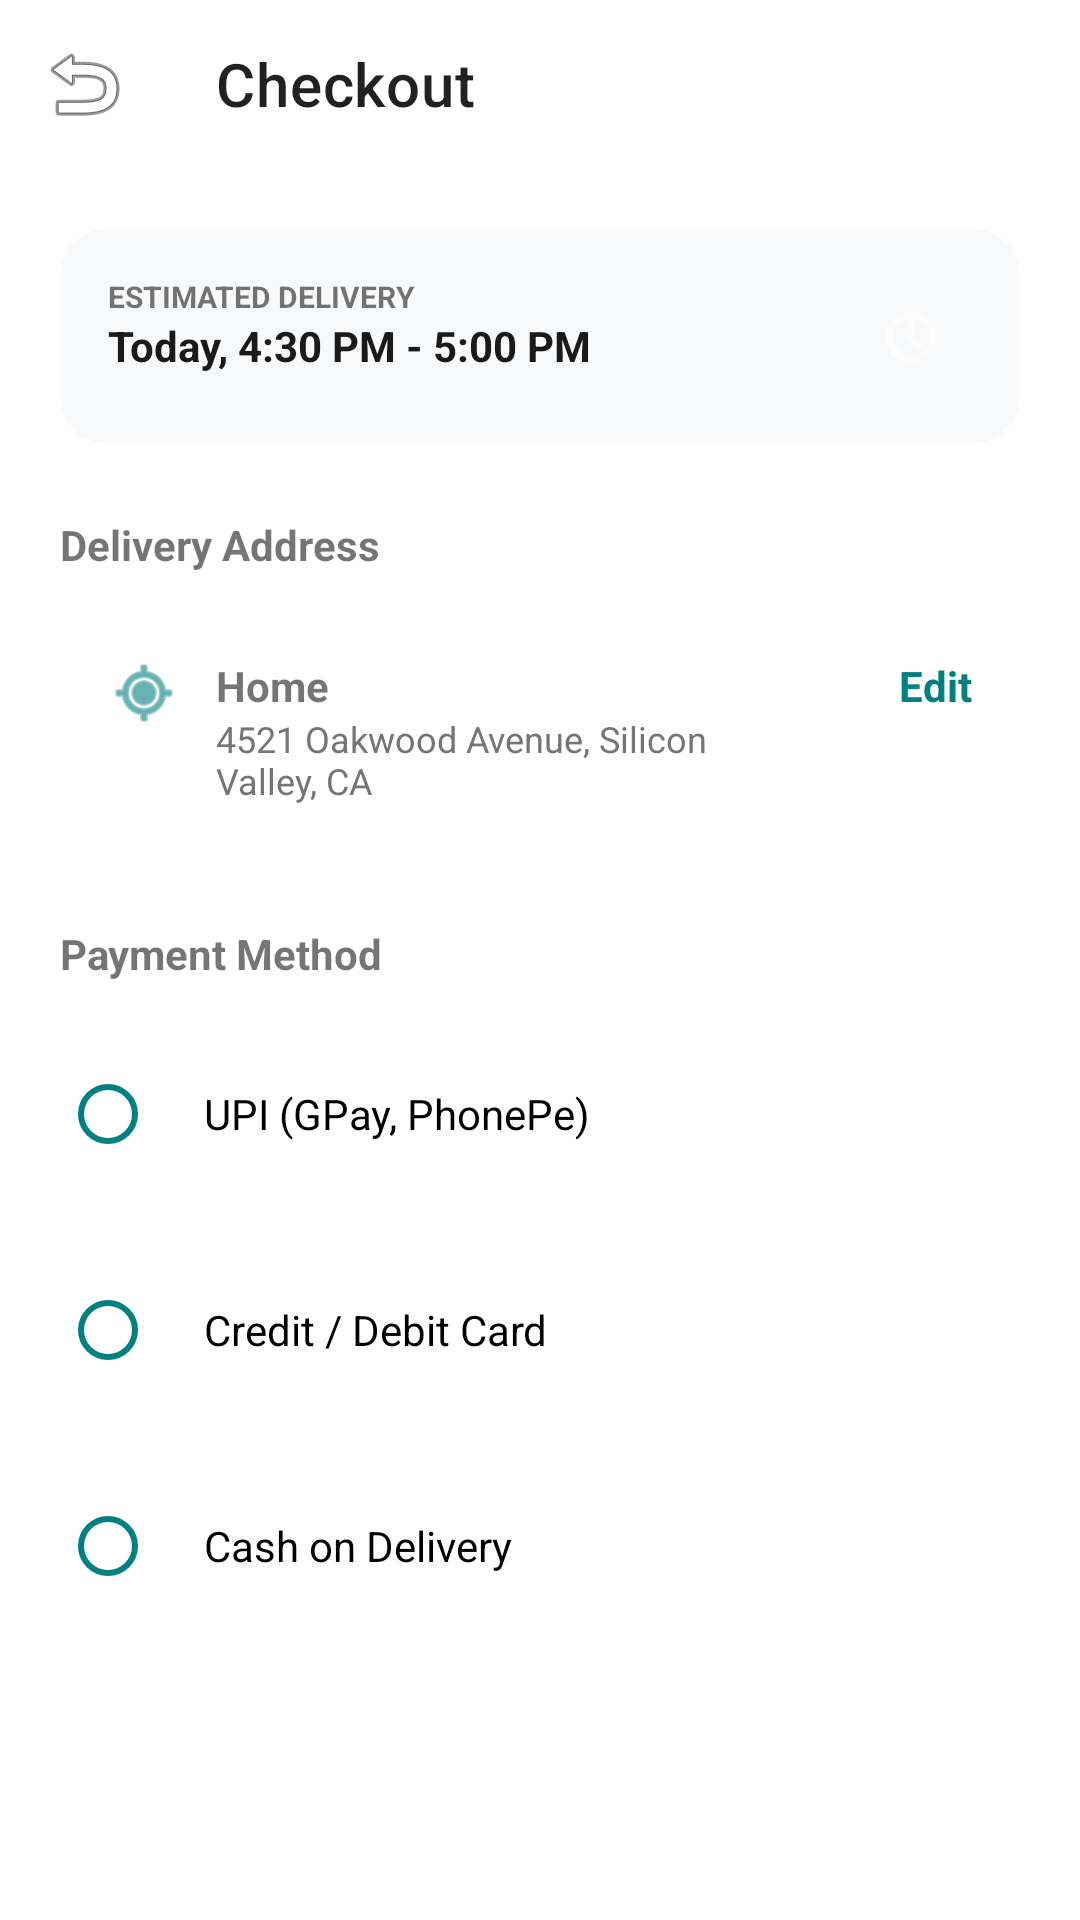

Where to tap for icons on this 1080 × 1920 app screen, as [x,y]:
mylocation: [144,693]
